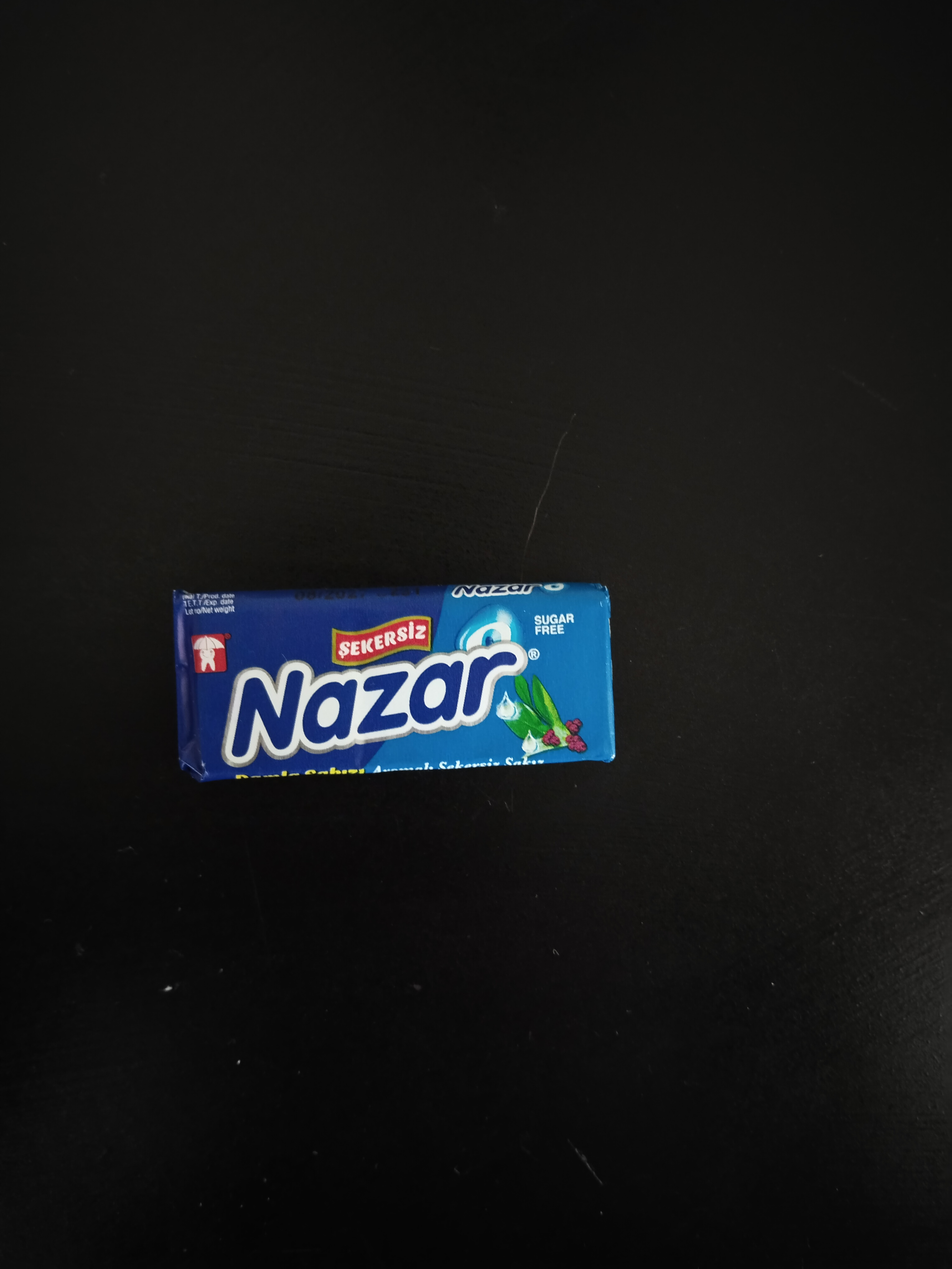nazar_damla_sakizli_sakiz: (175, 583, 612, 780)
